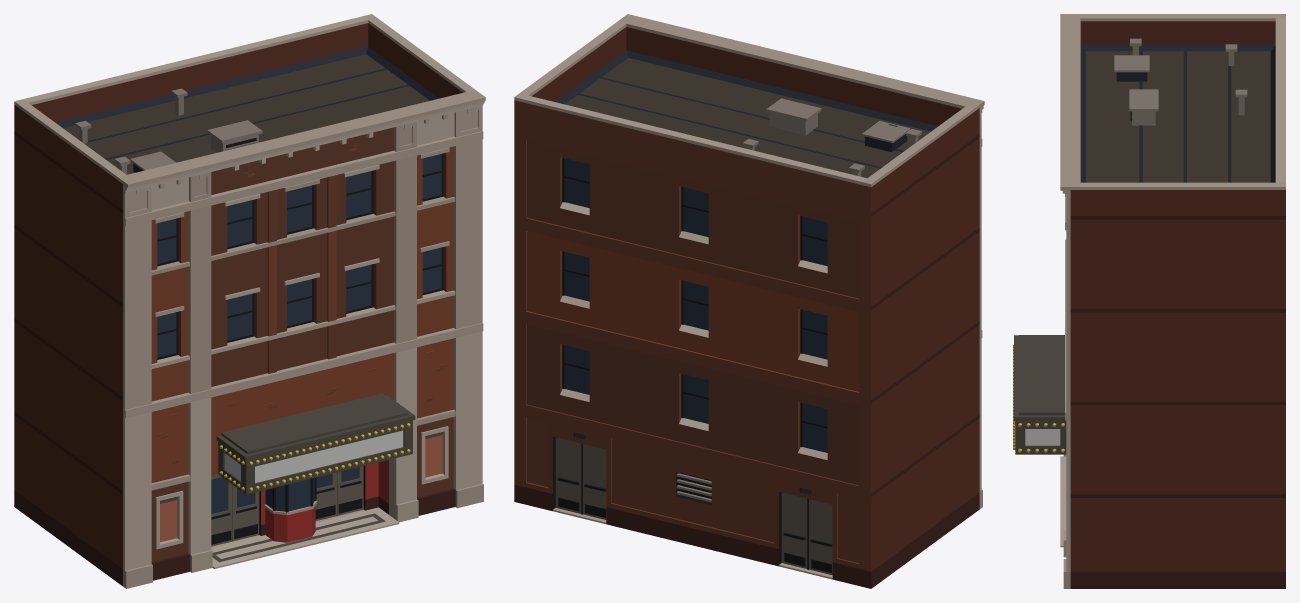
File: movie-theater-40eeef.glb
3 views of the same model, side by side, from view 1: azimuth 30°, elevation 25°; view 2: azimuth 150°, elevation 25°; view 3: azimuth 270°, elevation 25° (orthographic).
Visible parts, largest first — view 1: movie-theater-body, door-left-a-leaf, door-left-b-leaf, door-right-b-leaf, door-right-a-leaf; view 2: movie-theater-body, roof-hatch-lid; view 3: movie-theater-body, roof-hatch-lid.
Boxes of the visible parts, x1,y1,x2,y2 form: movie-theater-body: (14, 14, 485, 588); door-left-a-leaf: (211, 474, 232, 546); door-left-b-leaf: (232, 485, 259, 541); door-right-b-leaf: (337, 466, 363, 515); door-right-a-leaf: (315, 472, 336, 520); movie-theater-body: (514, 14, 984, 588); roof-hatch-lid: (862, 121, 910, 143); movie-theater-body: (1013, 14, 1285, 588); roof-hatch-lid: (1114, 55, 1149, 72).
Size of the model in its own units: 12 by 13 by 8.
